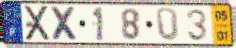0: (155, 6, 180, 43)
1: (91, 6, 107, 43)
3: (185, 9, 209, 42)
8: (119, 7, 142, 42)
X: (49, 5, 81, 42), (23, 5, 53, 42)
